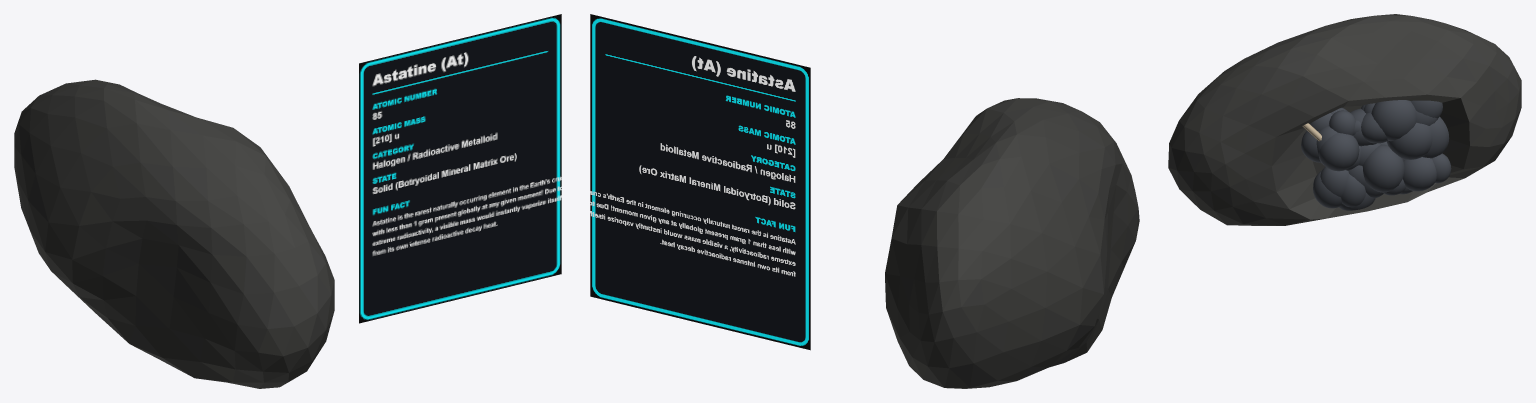
The model's file is astatine.glb.
3 views of the same model, side by side, from view 1: azimuth 30°, elevation 25°; view 2: azimuth 150°, elevation 25°; view 3: azimuth 270°, elevation 25° (orthographic). The views are drawn at different scales.
Visible parts, largest first — view 1: Mesh_0, Mesh_79; view 2: Mesh_79, Mesh_0; view 3: Mesh_0, Mesh_32, Mesh_65, Mesh_50, Mesh_66, Mesh_61, Mesh_20, Mesh_57, Mesh_38, Mesh_3, Mesh_73, Mesh_26 (+3 smaller).
Part boxes in pixels (box(x1,y1,x2,y2)): Mesh_0: box(14, 79, 334, 388); Mesh_79: box(359, 14, 561, 323); Mesh_79: box(590, 14, 810, 350); Mesh_0: box(885, 98, 1139, 388); Mesh_0: box(1168, 14, 1521, 225); Mesh_32: box(1362, 144, 1404, 192); Mesh_65: box(1371, 100, 1416, 141); Mesh_50: box(1319, 132, 1359, 171); Mesh_66: box(1387, 122, 1432, 159); Mesh_61: box(1403, 157, 1436, 191); Mesh_20: box(1422, 116, 1449, 158); Mesh_57: box(1320, 166, 1348, 197); Mesh_38: box(1341, 174, 1365, 207); Mesh_3: box(1313, 170, 1341, 208); Mesh_73: box(1361, 112, 1388, 143); Mesh_26: box(1329, 110, 1355, 135).
Size of the model in its own units: 2.72 by 1.41 by 2.13.
Materials: 5 (1 with a texture image).
